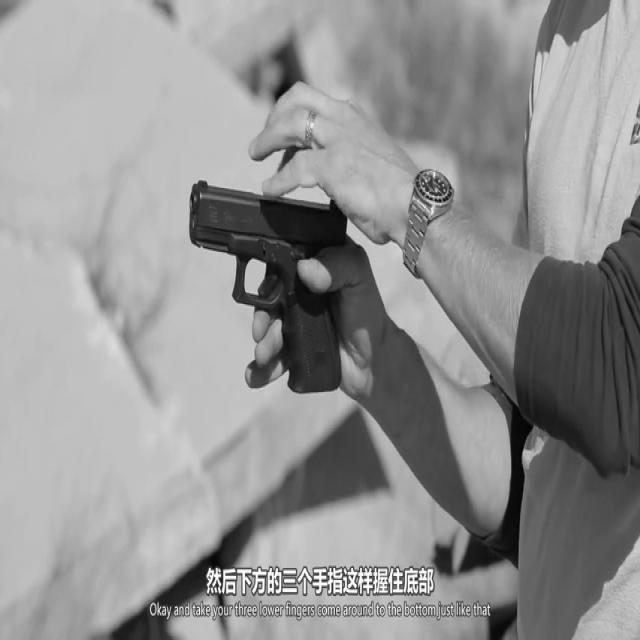Hand-Gun: (184, 160, 364, 408)
